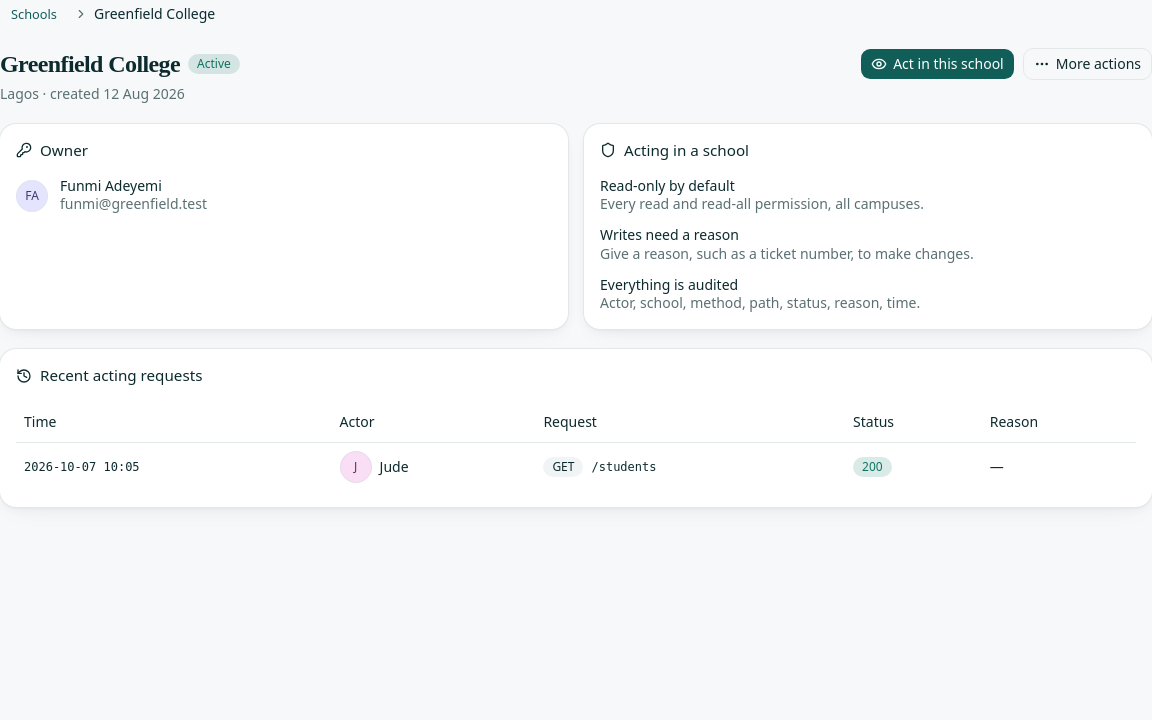
it: Suspend dialog › uses the PRD copy and suspends with a warning toast
Click the button "More actions".
click(1087, 64)  # box [1023,48,1151,80]
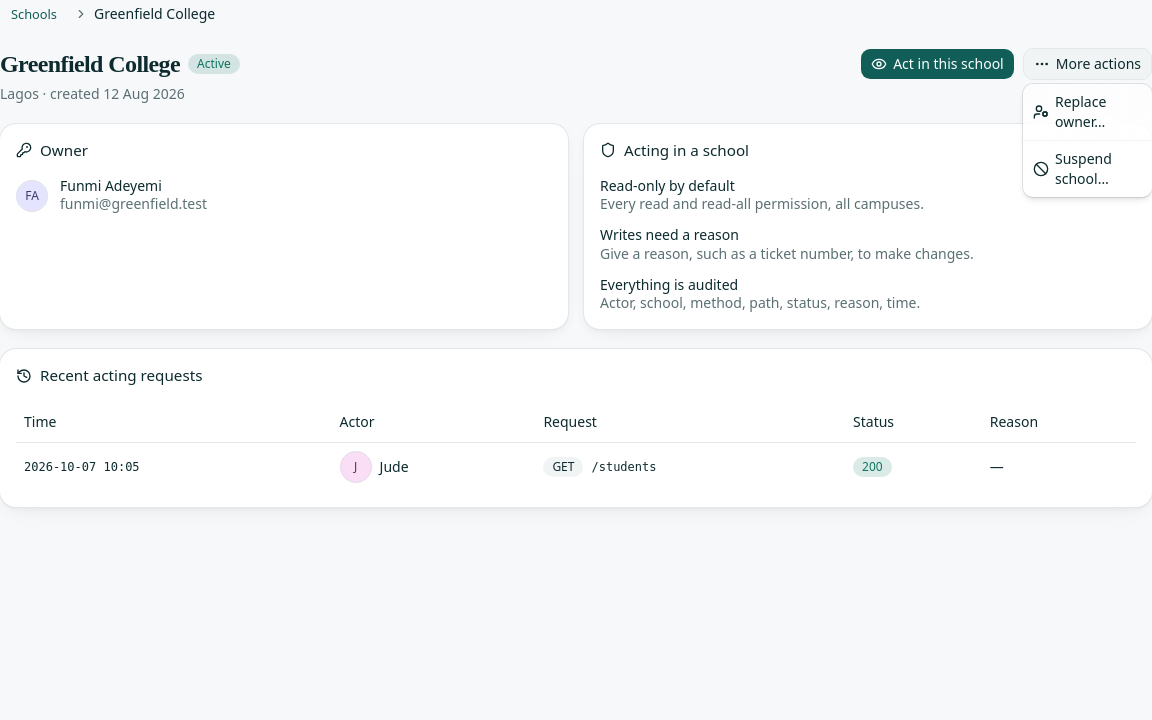
Click the menu item "Suspend school…".
click(1072, 168)  # box [1033,149,1112,188]
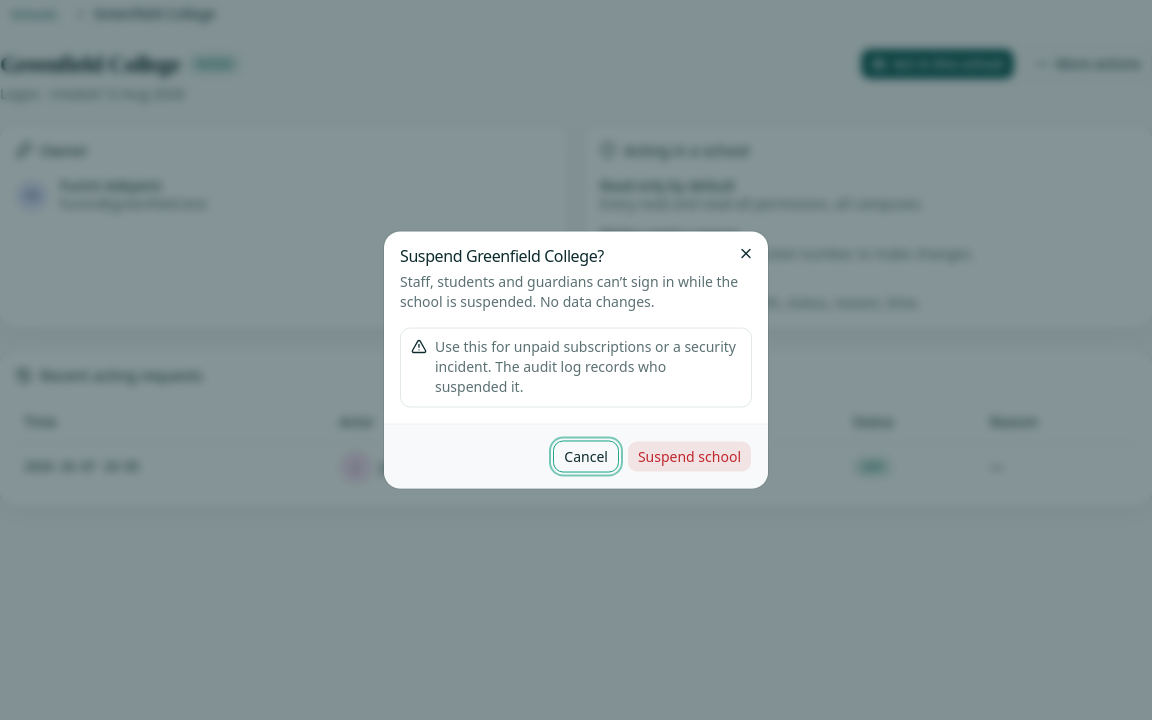
Expected: the heading "Suspend Greenfield College?" is shown, [400,244,604,266]
Expected: the text "Staff, students and guardians can’t sign in while the school is suspended. No data changes." is shown, [400,272,738,310]
Expected: the text "Use this for unpaid subscriptions or a security incident. The audit log records who suspended it." is shown, [435,336,736,396]
Click the button "Suspend school".
click(689, 456)  # box [627,440,752,472]
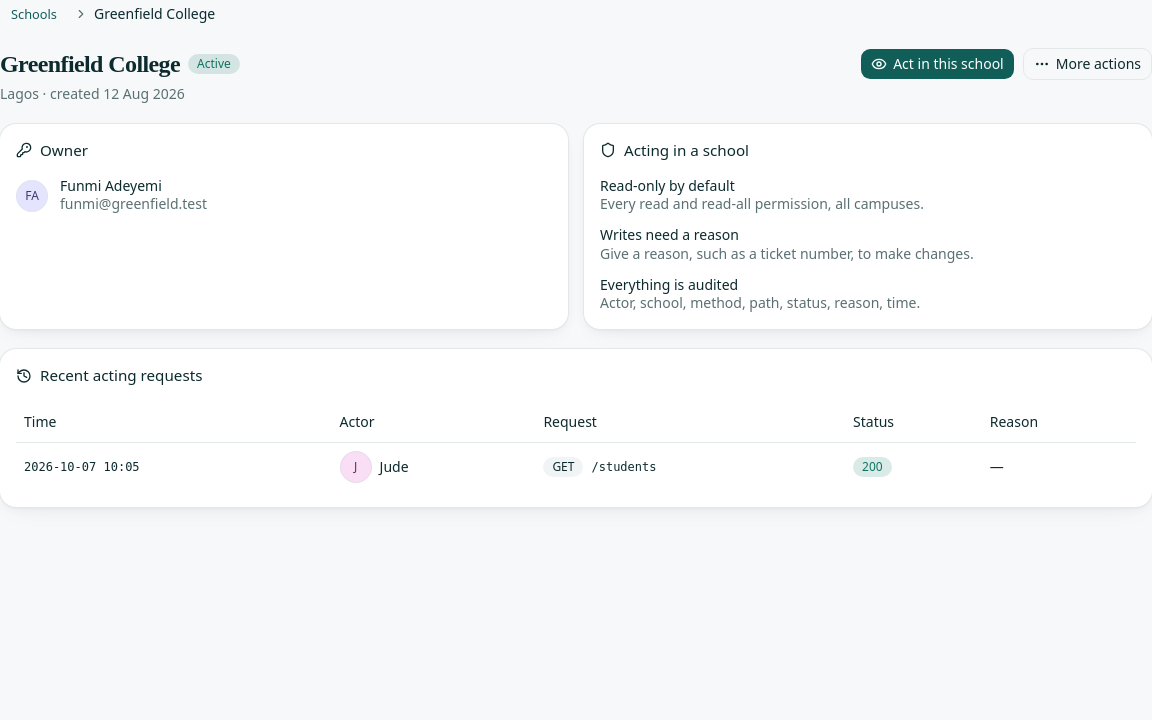
Expected: the dialog is gone
